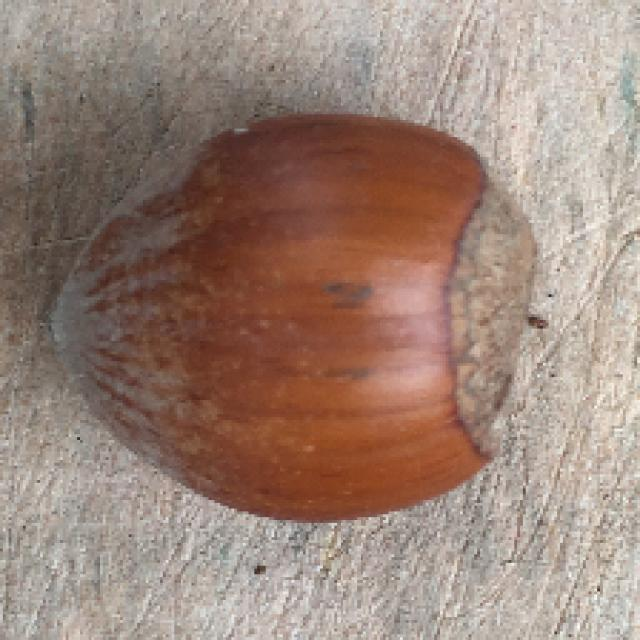qualityHazelnut: (44, 106, 540, 531)
